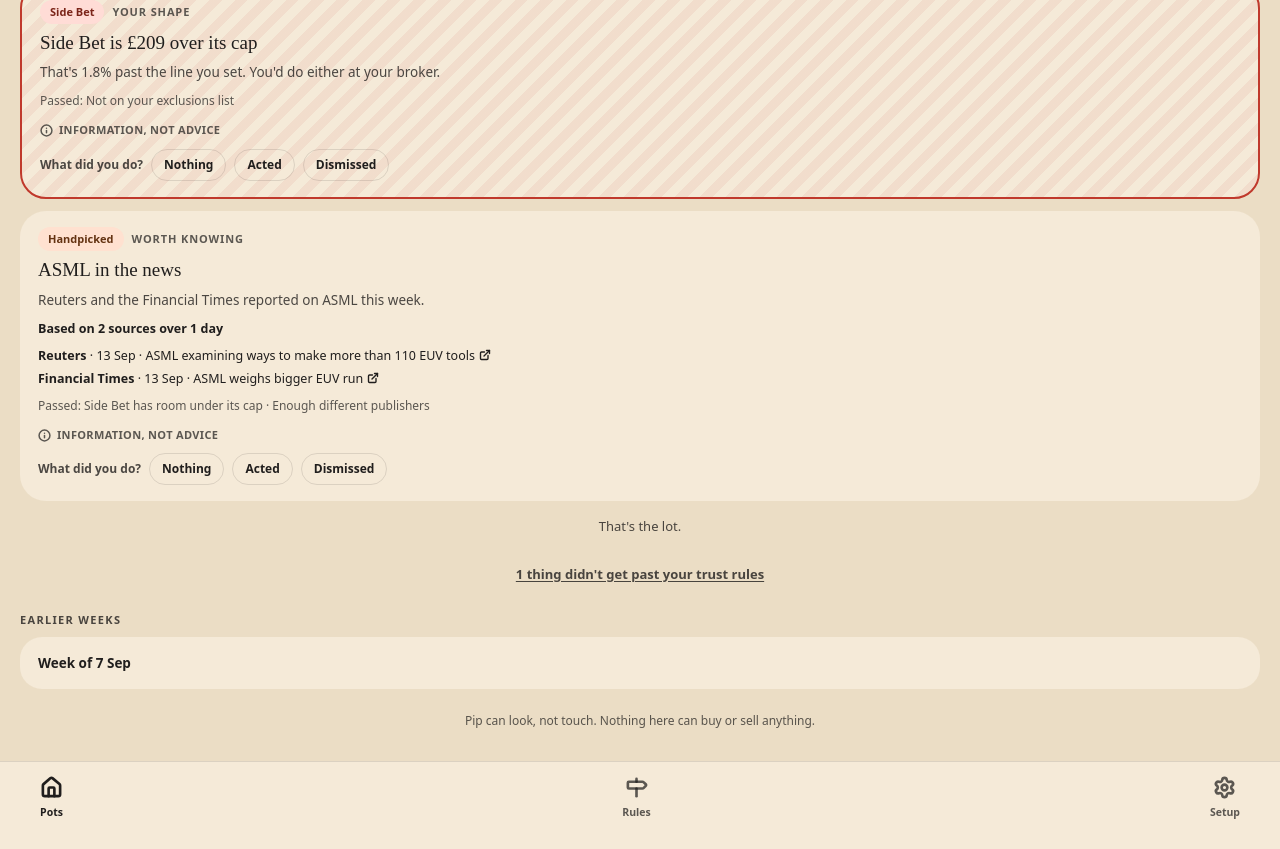
Scenario: Your week › lists earlier weeks and opens one
The width and height of the screenshot is (1280, 849).
(page scrolled)
Click the link "Week of 7 Sep". click: {"x": 84, "y": 663}
box: [38,654,131,672]
(page scrolled)
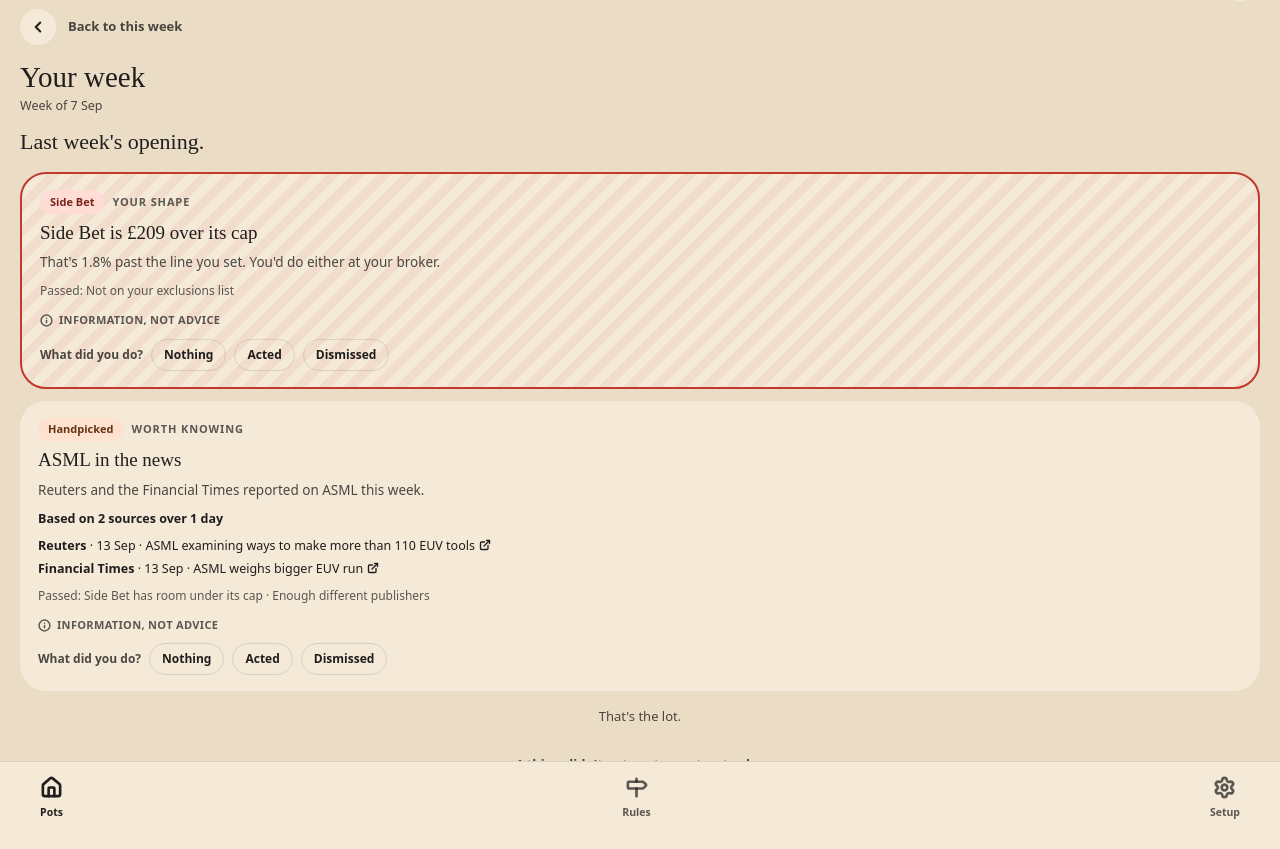
Result: the text "Last week's opening." is shown at [20,129,204,154]
Result: the link "Back to this week" is shown at [20,9,182,45]
